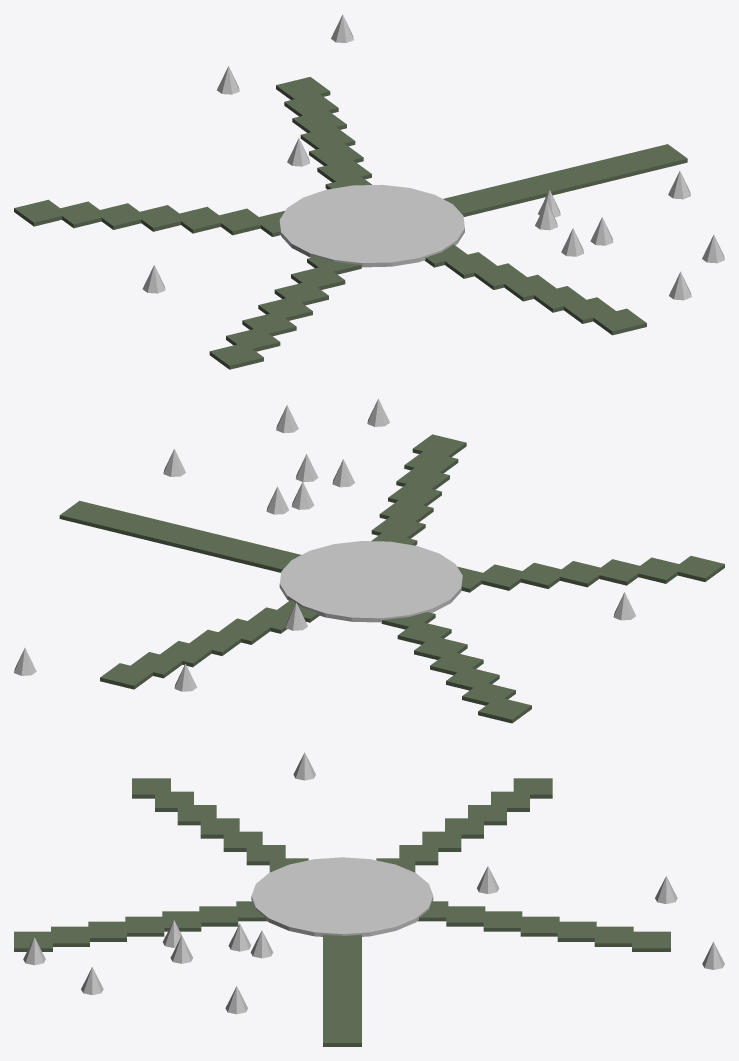
Rendered from layout_main.obj.
The picture shows the model from 3 angles, top to bottom: view 1: azimuth 30°, elevation 25°; view 2: azimuth 150°, elevation 25°; view 3: azimuth 270°, elevation 25°; orthographic projection. The views are drawn at different scales.
Visible parts, largest first — view 1: paths, plaza, scatter; view 2: paths, plaza, scatter; view 3: paths, plaza, scatter.
Boxes of the visible parts, x1,y1,x2,y2 form: paths: (14,77,687,369); plaza: (279,184,464,267); scatter: (142,14,724,300); paths: (59,434,724,723); plaza: (279,541,462,622); scatter: (14,399,635,691); paths: (14,778,670,1046); plaza: (251,857,433,936); scatter: (23,752,724,1014).
Size of the model in its own units: 48.23 by 3.08 by 54.73.
